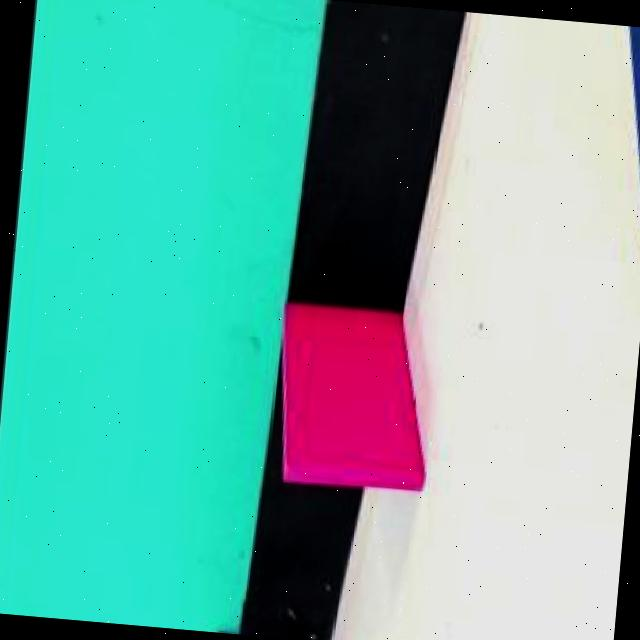xparking: (288, 320, 434, 488)
